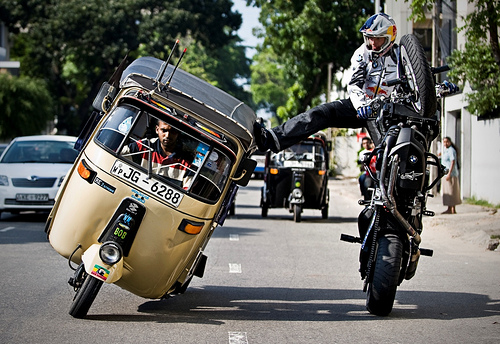tuk tuk: (44, 56, 257, 315), (259, 149, 332, 225)
